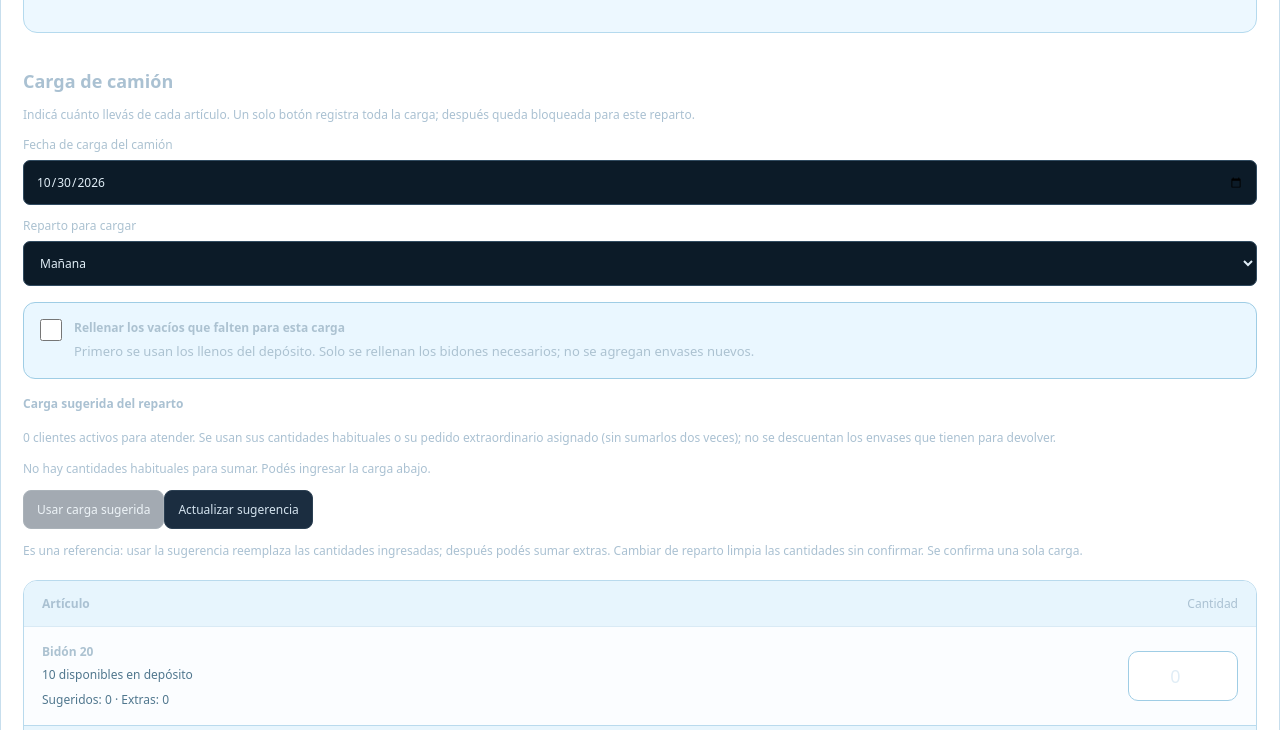
inventario conectado del jefe › relleno y carga se envían juntos con identificadores estables al reintentar
The width and height of the screenshot is (1280, 730).
(page scrolled)
Expected: the heading "Carga de camión" is shown, [23,69,173,93]
Click the checkbox labelled "Rellenar los vacíos" at (51,330), box [40,319,62,341]
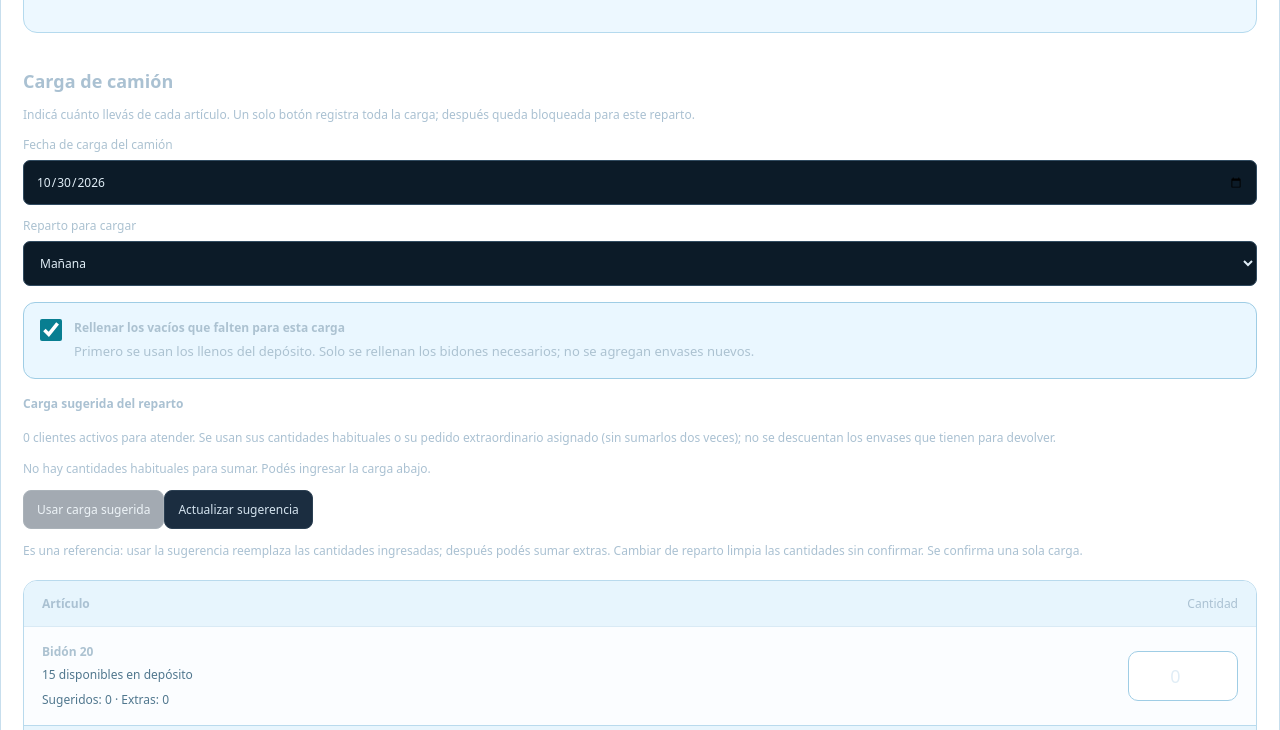
Replace the text in the number field named "Cargar Bidón 20" with "13" at (1183,676), box [1128,651,1238,701]
(page scrolled)
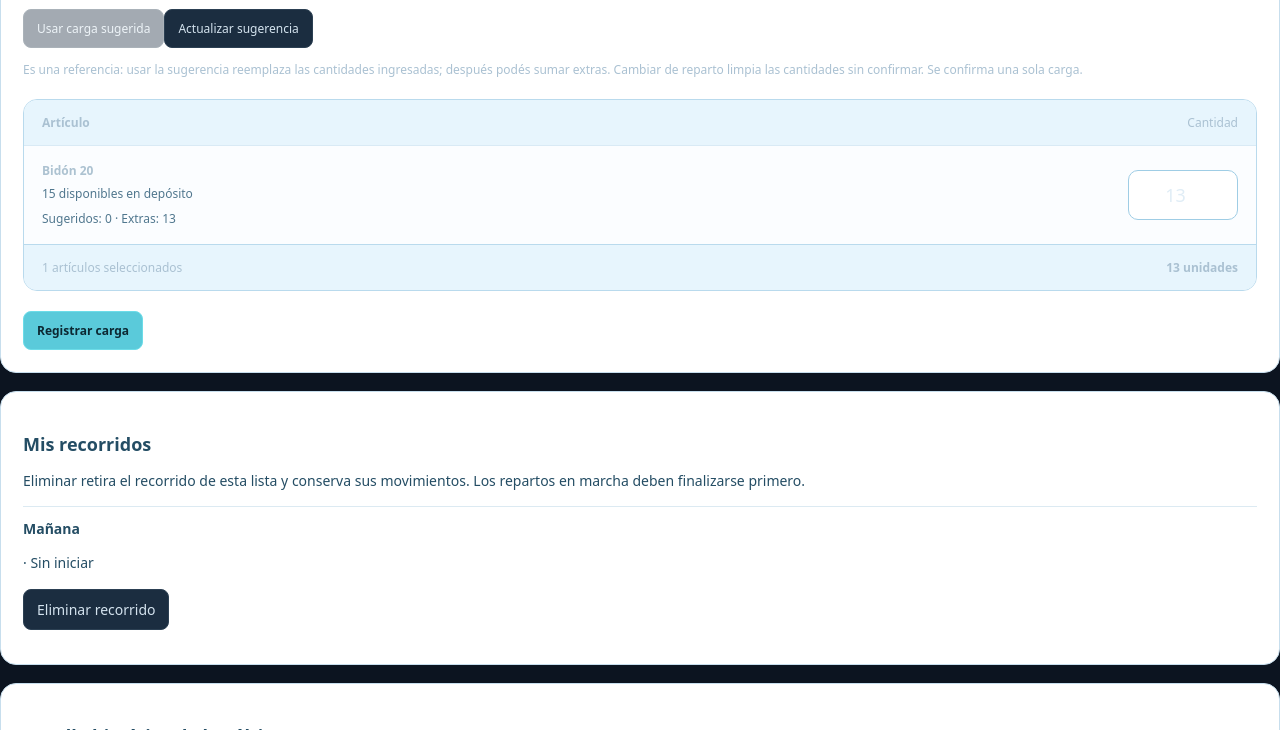
Click the button "Registrar carga" at (83,330), box [23,311,143,350]
(page scrolled)
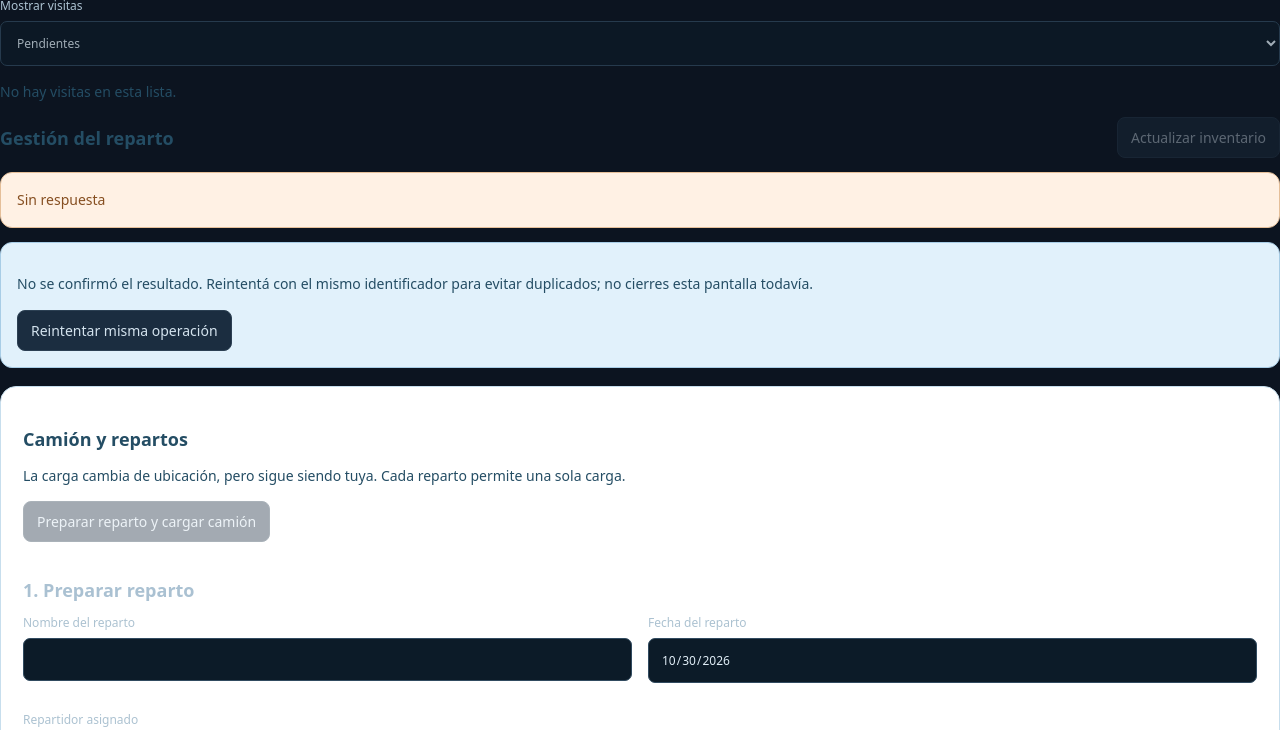
Expected: the button "Reintentar misma operación" is shown
Click the button "Reintentar misma operación" at (124,330), box [17,310,232,351]
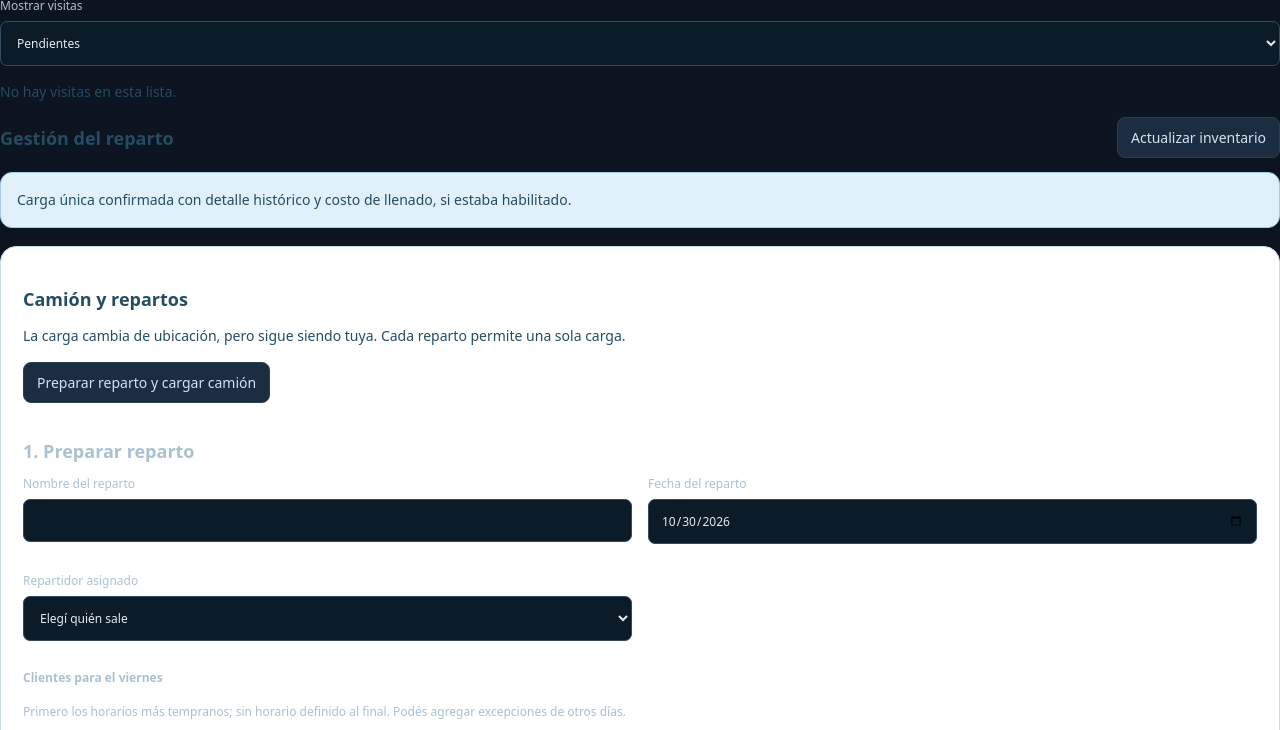
Expected: the text "Carga única confirmada" is shown, [17,190,571,209]
